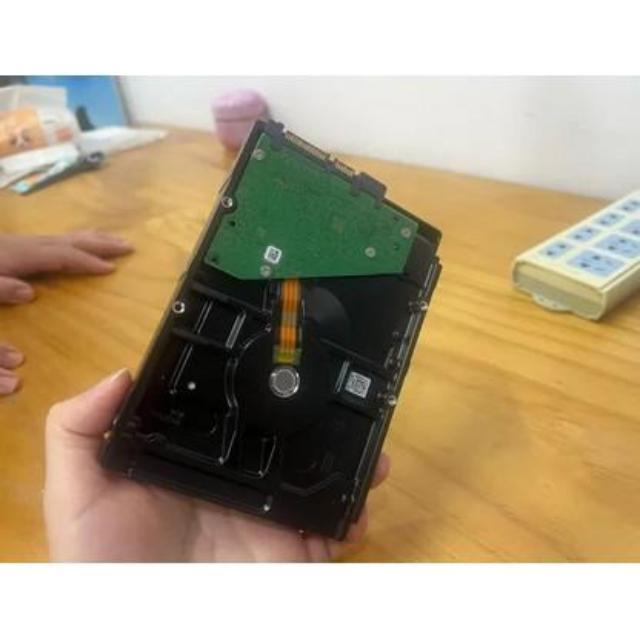DISK: (96, 106, 448, 538)
